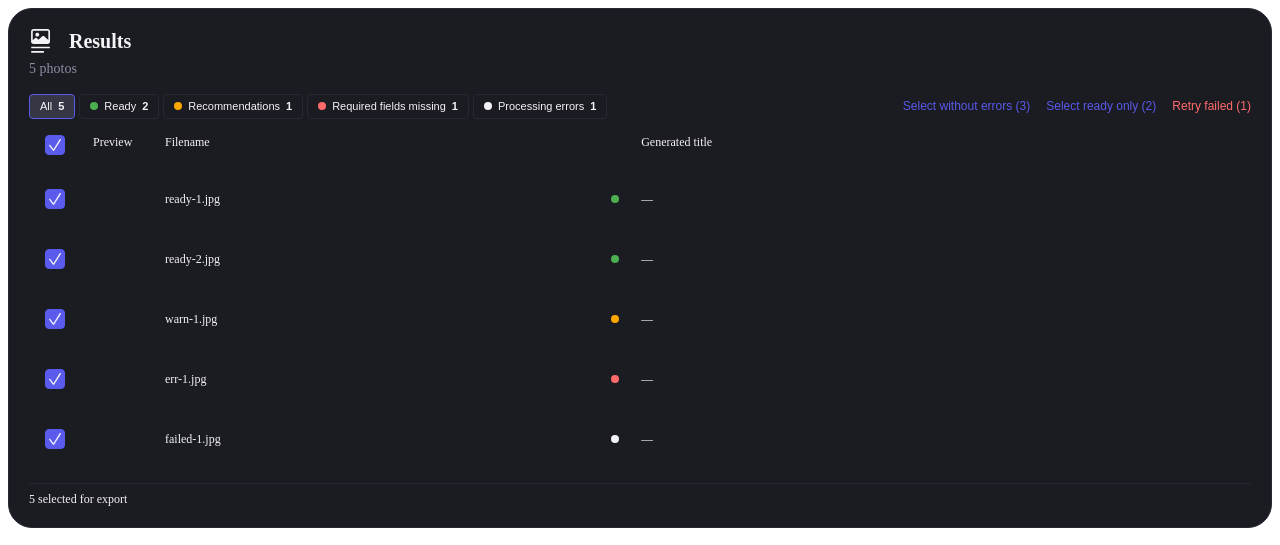
Scenario: футер считает выбранные по всему батчу, а не по видимой группе
The image size is (1280, 545).
Expected: the text "5 selected for export" is shown, left=29, top=492, right=127, bottom=507
Step 1. Click the button with aria-label "Ready (2)" → click(119, 106), box left=79, top=94, right=159, bottom=119
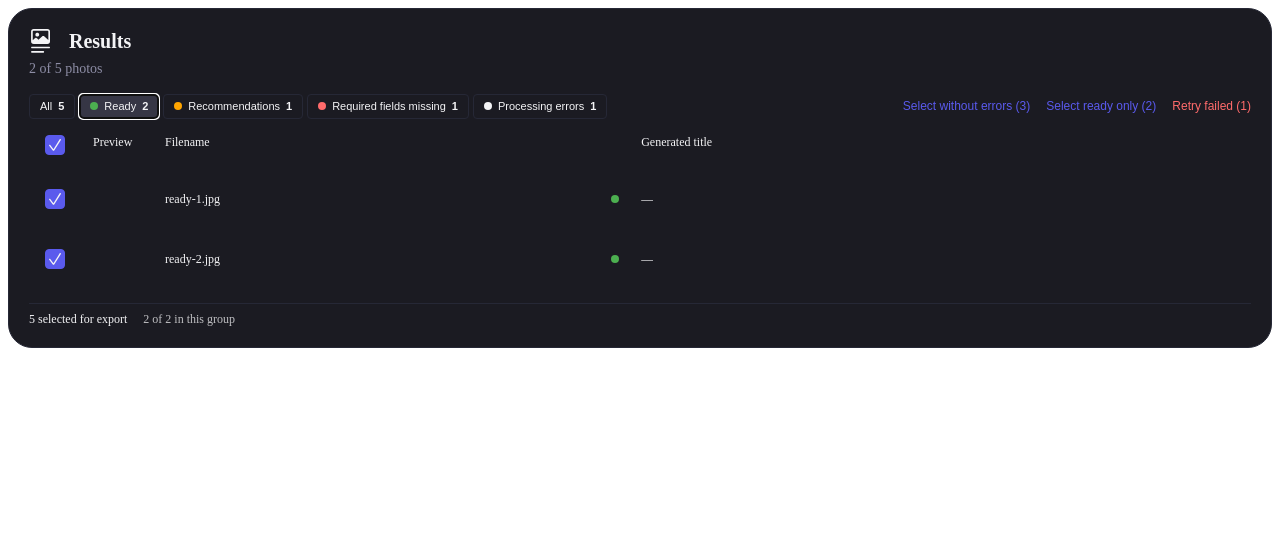
Expected: the text "5 selected for export" is shown, left=29, top=312, right=127, bottom=327
Expected: the text "2 of 2 in this group" is shown, left=143, top=312, right=235, bottom=327
